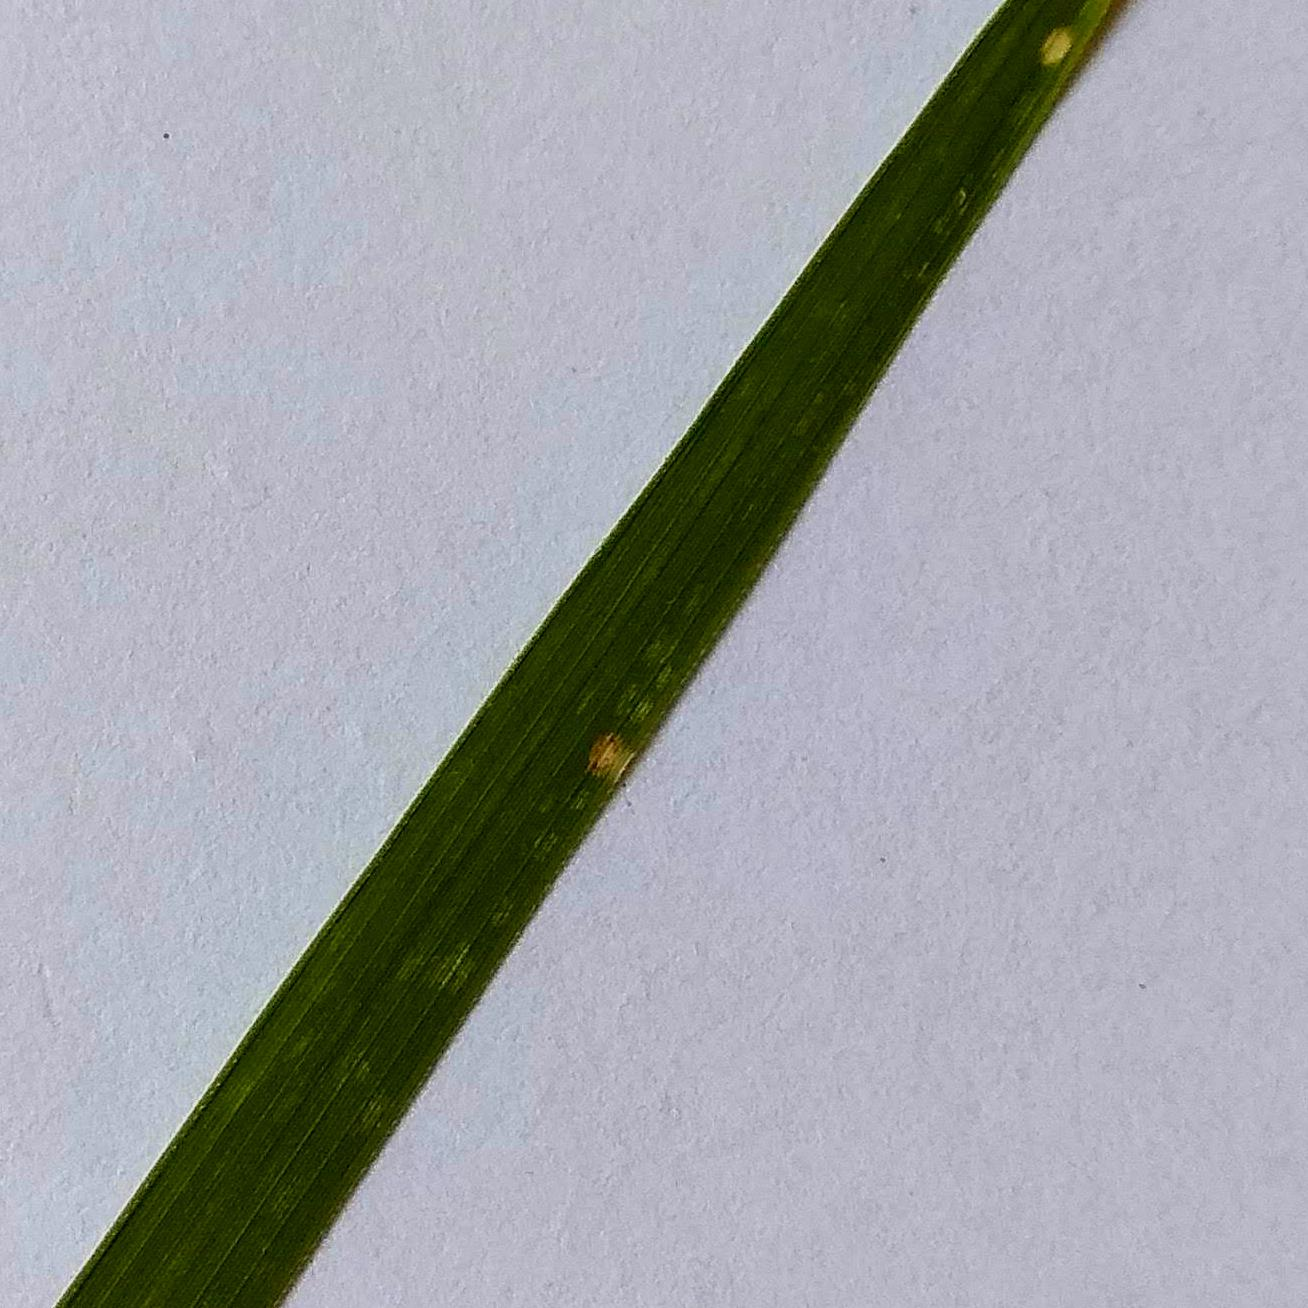1 RiceBlast: (567, 691, 658, 797), (1029, 13, 1082, 72)
